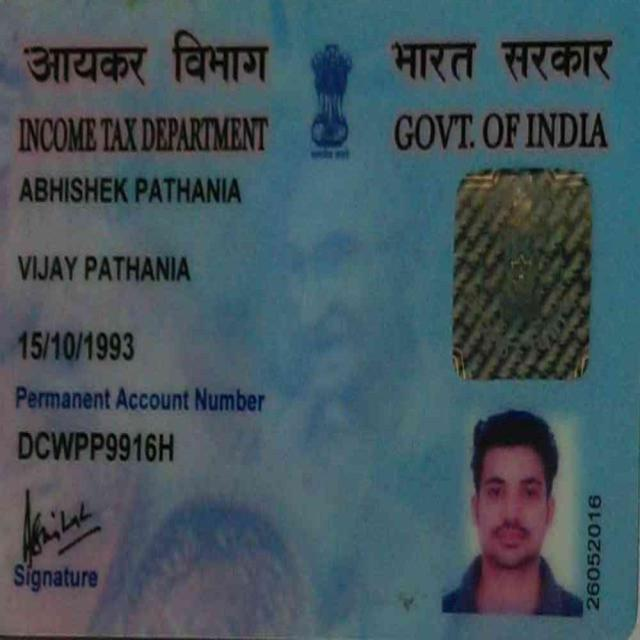pan_card: (0, 4, 638, 630)
